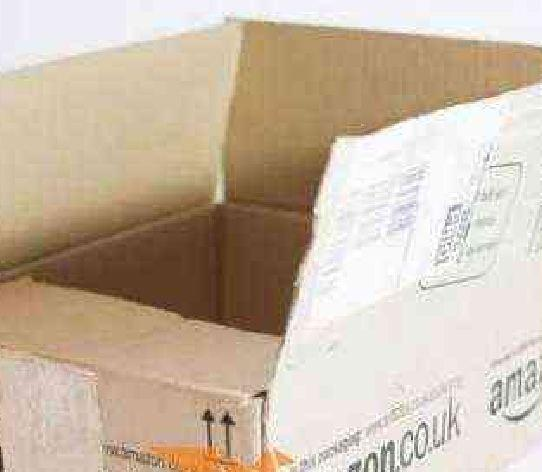cardboard: (0, 22, 541, 471)
paper: (273, 41, 541, 471)
